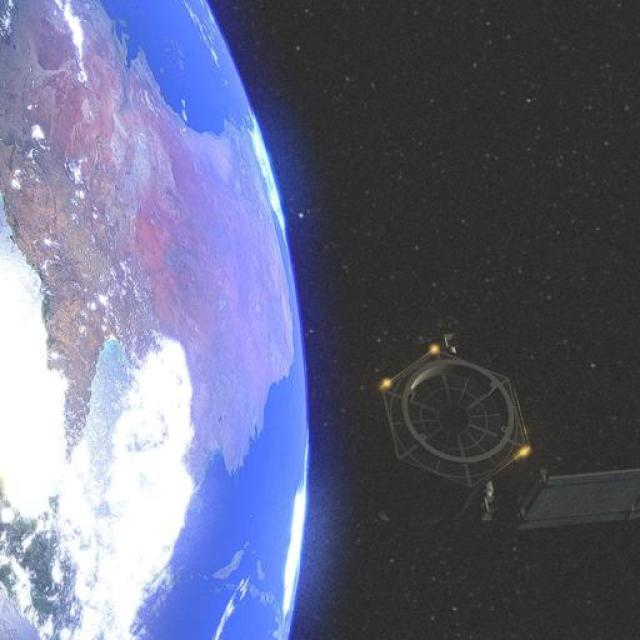earth_observation_sat_1: (358, 336, 640, 546)
